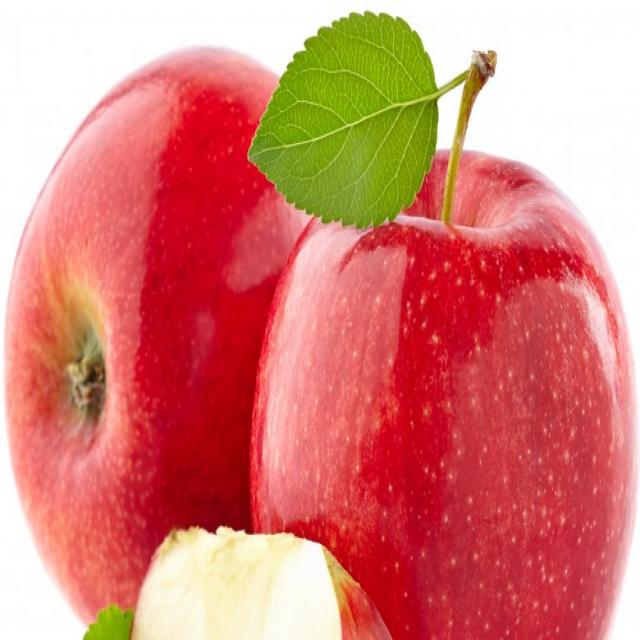apple: (252, 148, 640, 640), (6, 43, 328, 626), (118, 517, 391, 640)
